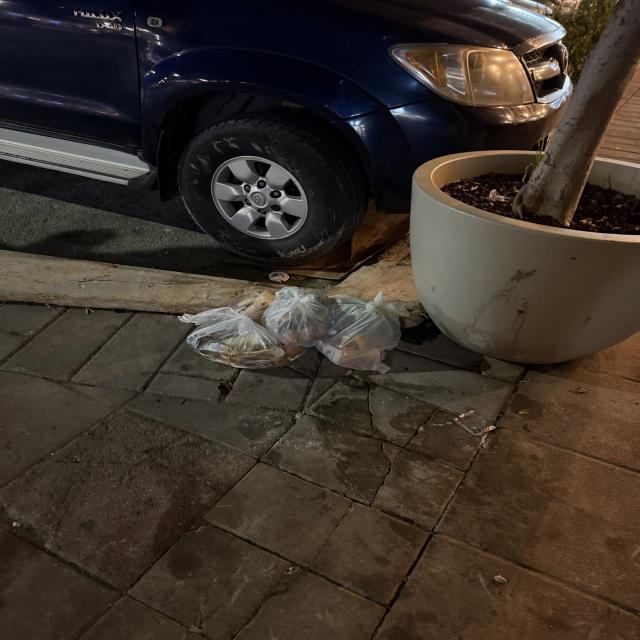Organic Waste -White Bags-: (188, 286, 402, 374)
